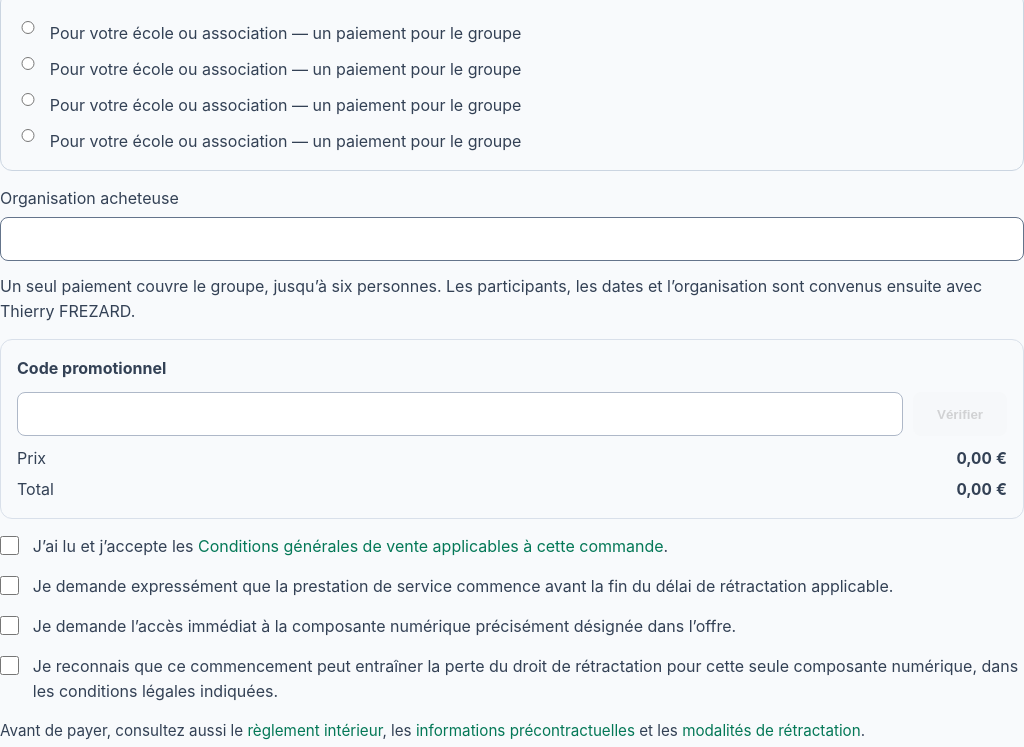
Test: CommercialCheckout › refuse de traiter un code saisi mais non validé
The image size is (1024, 747).
Type "COURSE20" into the field labelled "Code promotionnel" at (460, 414), box [17,392,903,436]
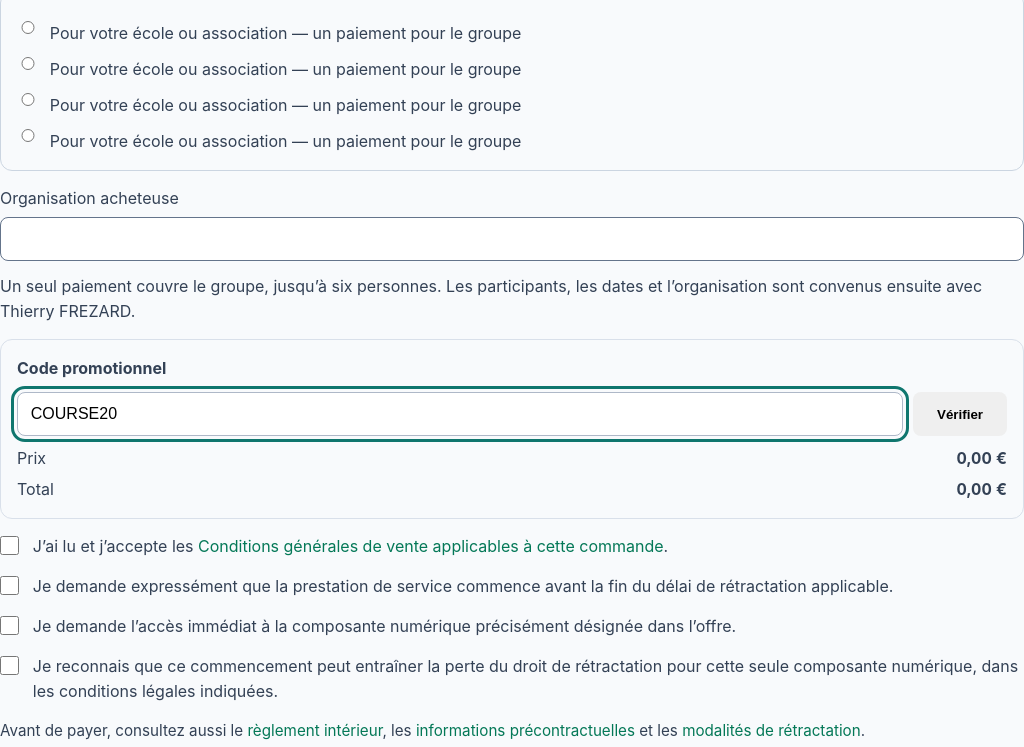
Click the 1st checkbox at (10, 546), box [0,536,19,555]
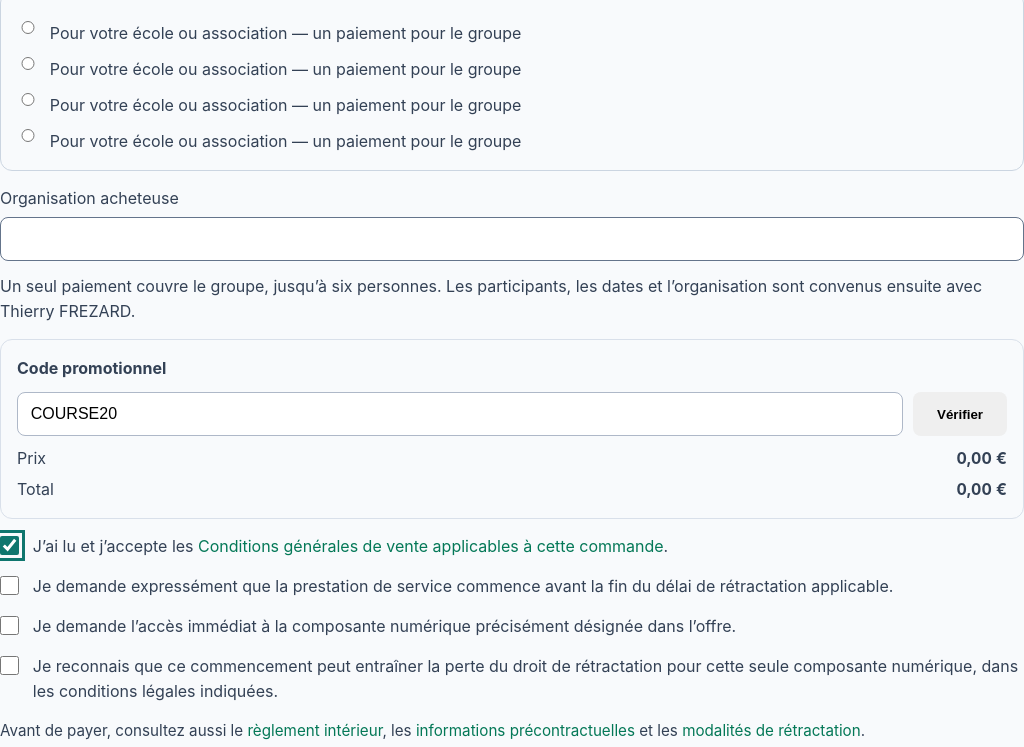
Click the 2nd checkbox at (10, 586), box [0,576,19,595]
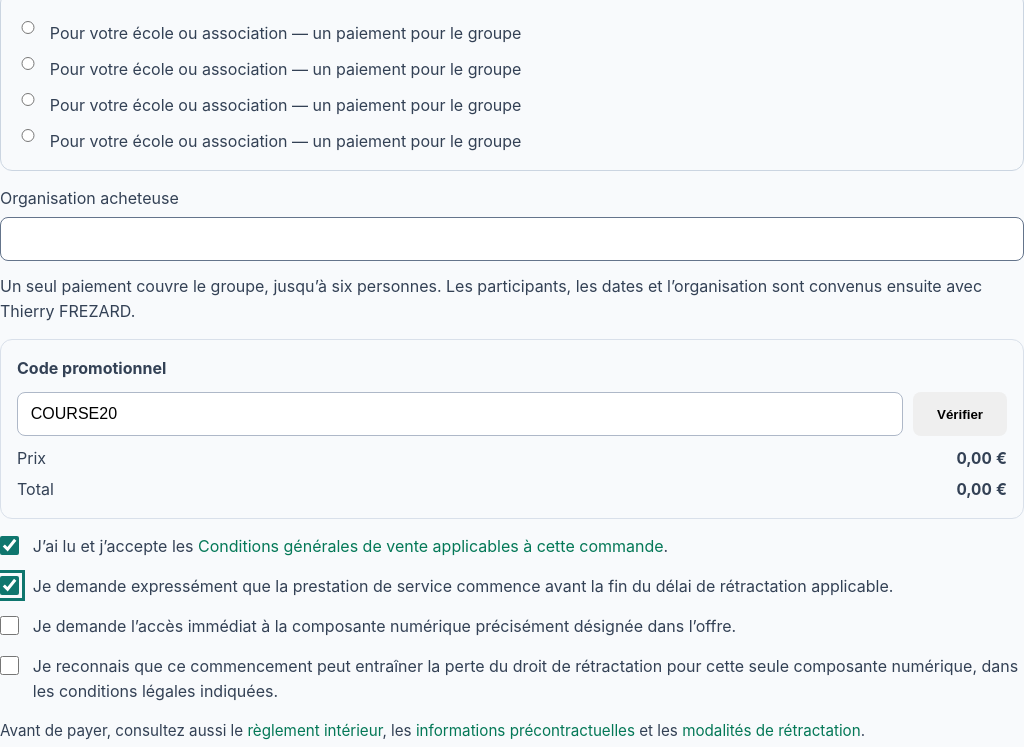
Click the 3rd checkbox at (10, 626), box [0,616,19,635]
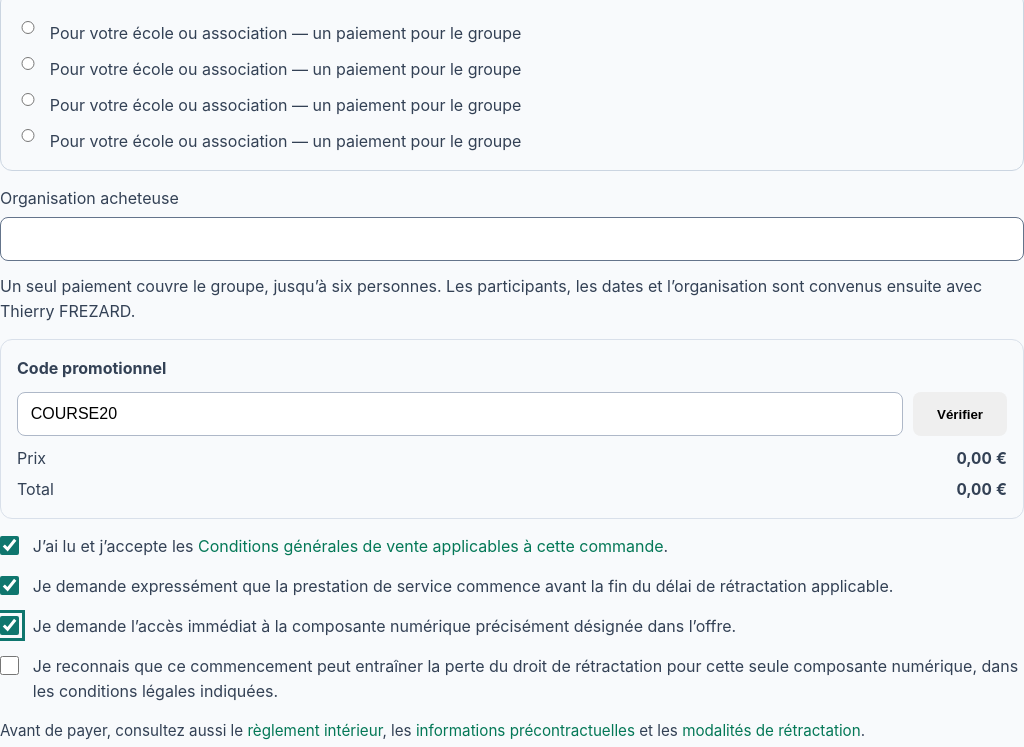
Click the 4th checkbox at (10, 666), box [0,656,19,675]
(page scrolled)
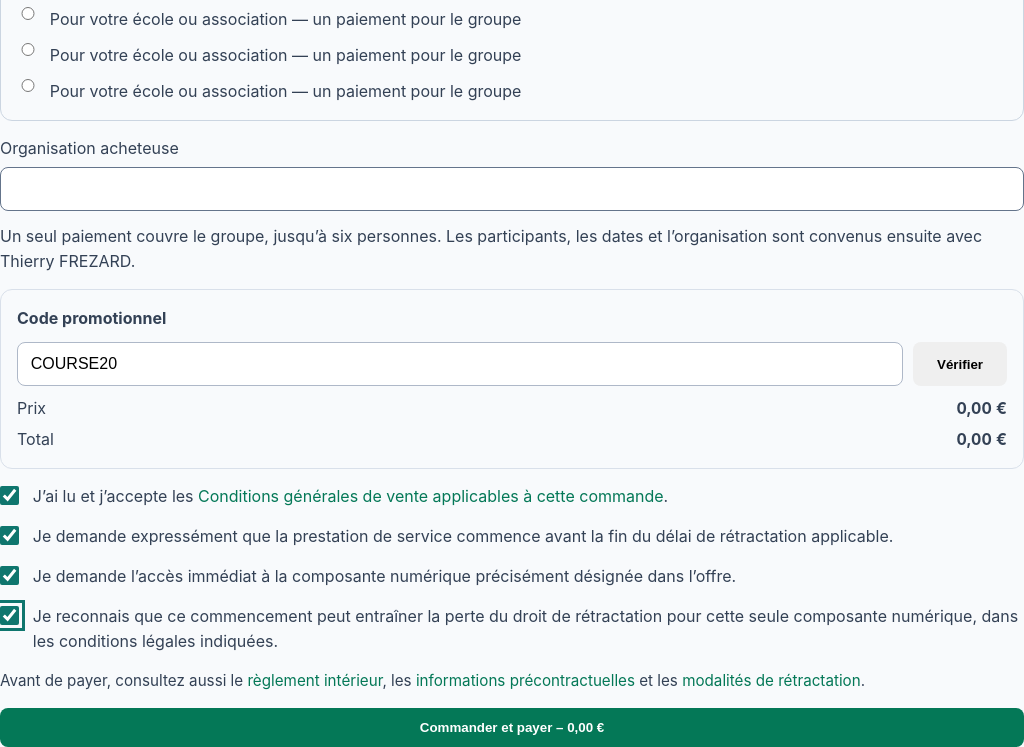
Click the button "Commander et payer – 0,00 €" at (512, 728), box [0,708,1023,746]
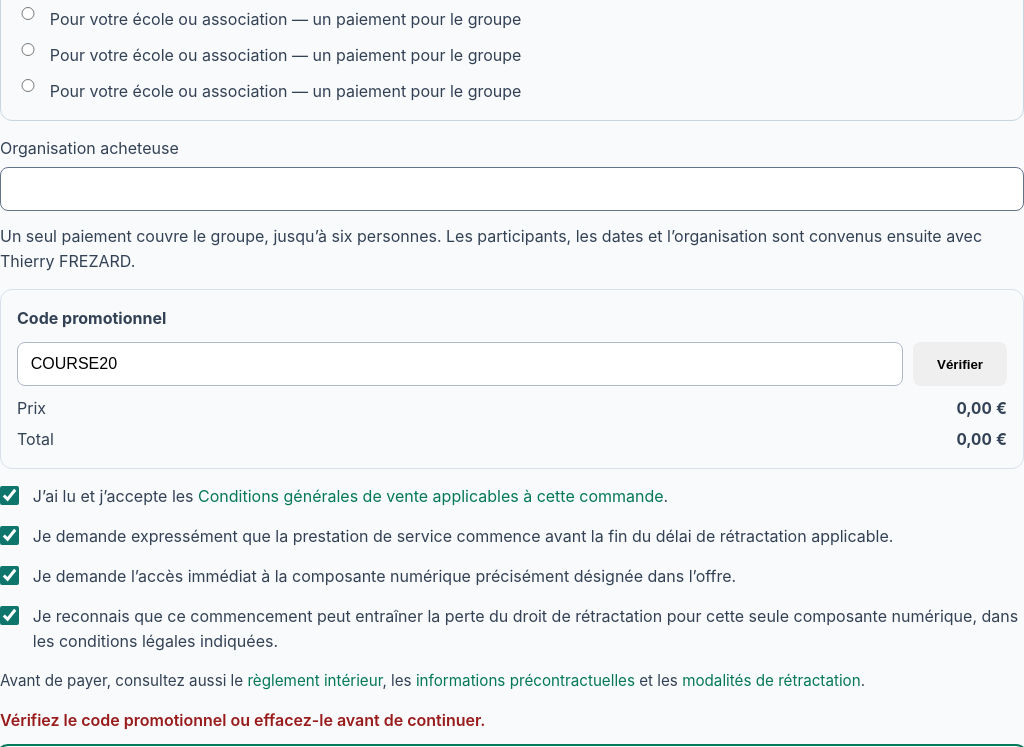
expect the message shows "Vérifiez le code promotionnel": met, box [0,710,485,730]
